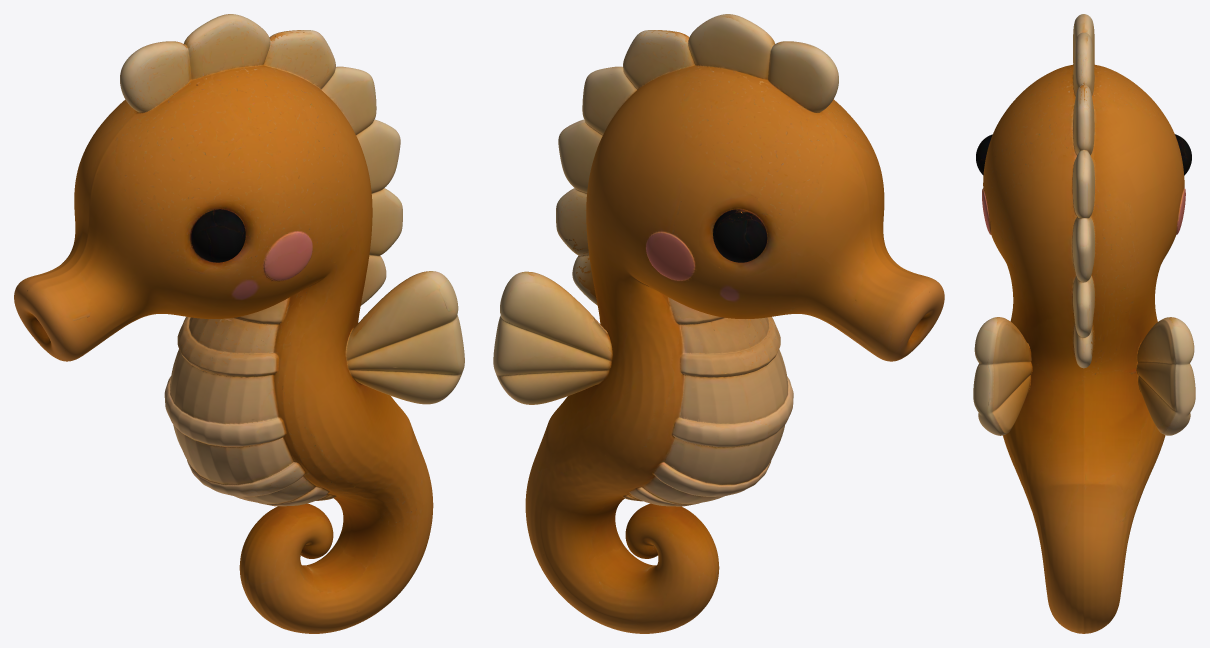
File: tiny_planet_friends_3d-walrus-4189.glb
3 renders of one model, left to right at view 1: azimuth 30°, elevation 25°; view 2: azimuth 150°, elevation 25°; view 3: azimuth 270°, elevation 25°, orthographic. The views are drawn at different scales.
Parts seen in each view (by area): view 1: texture_pbr_v128; view 2: texture_pbr_v128; view 3: texture_pbr_v128.
Boxes of the visible parts, x1,y1,x2,y2 form: texture_pbr_v128: [14, 14, 464, 633]; texture_pbr_v128: [493, 14, 944, 633]; texture_pbr_v128: [973, 14, 1195, 633].
Bounding box in the file's own units: 0.7305 × 1.11 × 0.4117.
Materials: 1 (1 with a texture image).
